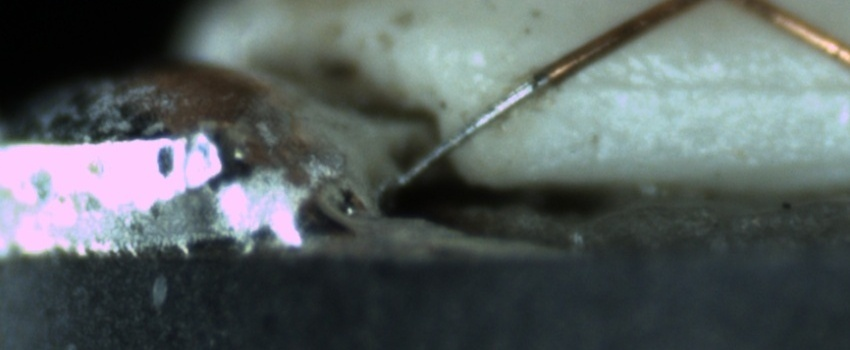CL: (676, 0, 779, 9)
DL: (555, 53, 849, 117)
TS: (396, 73, 546, 188)
TTCW: (395, 47, 585, 186)
